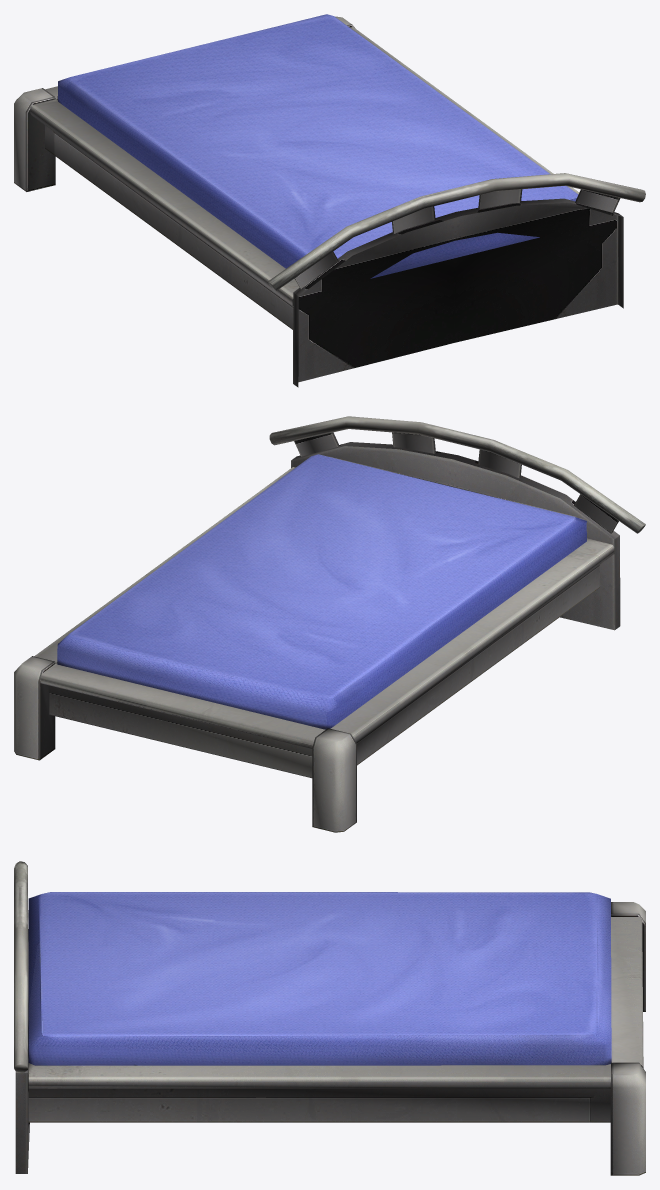
Rendered from bed1.glb.
3 views of the same model, one above another, from view 1: azimuth 30°, elevation 25°; view 2: azimuth 150°, elevation 25°; view 3: azimuth 270°, elevation 25° (orthographic). The views are drawn at different scales.
Visible parts, largest first — view 1: Box09; view 2: Box09; view 3: Box09.
Boxes of the visible parts, <box> form: Box09: <box>14,14,645,387</box>; Box09: <box>14,416,645,832</box>; Box09: <box>14,861,645,1175</box>.
Bounding box in the file's own units: 101 × 40.64 × 133.
1 material, 1 textured.
